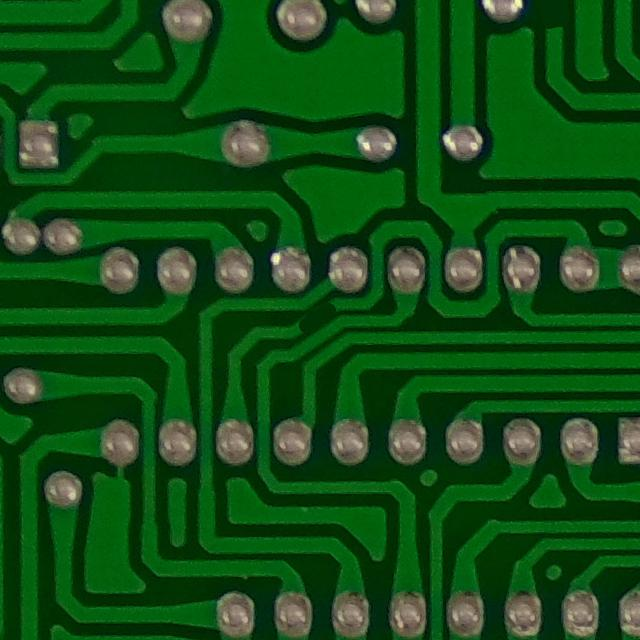open_circuit: (294, 298, 346, 342)
